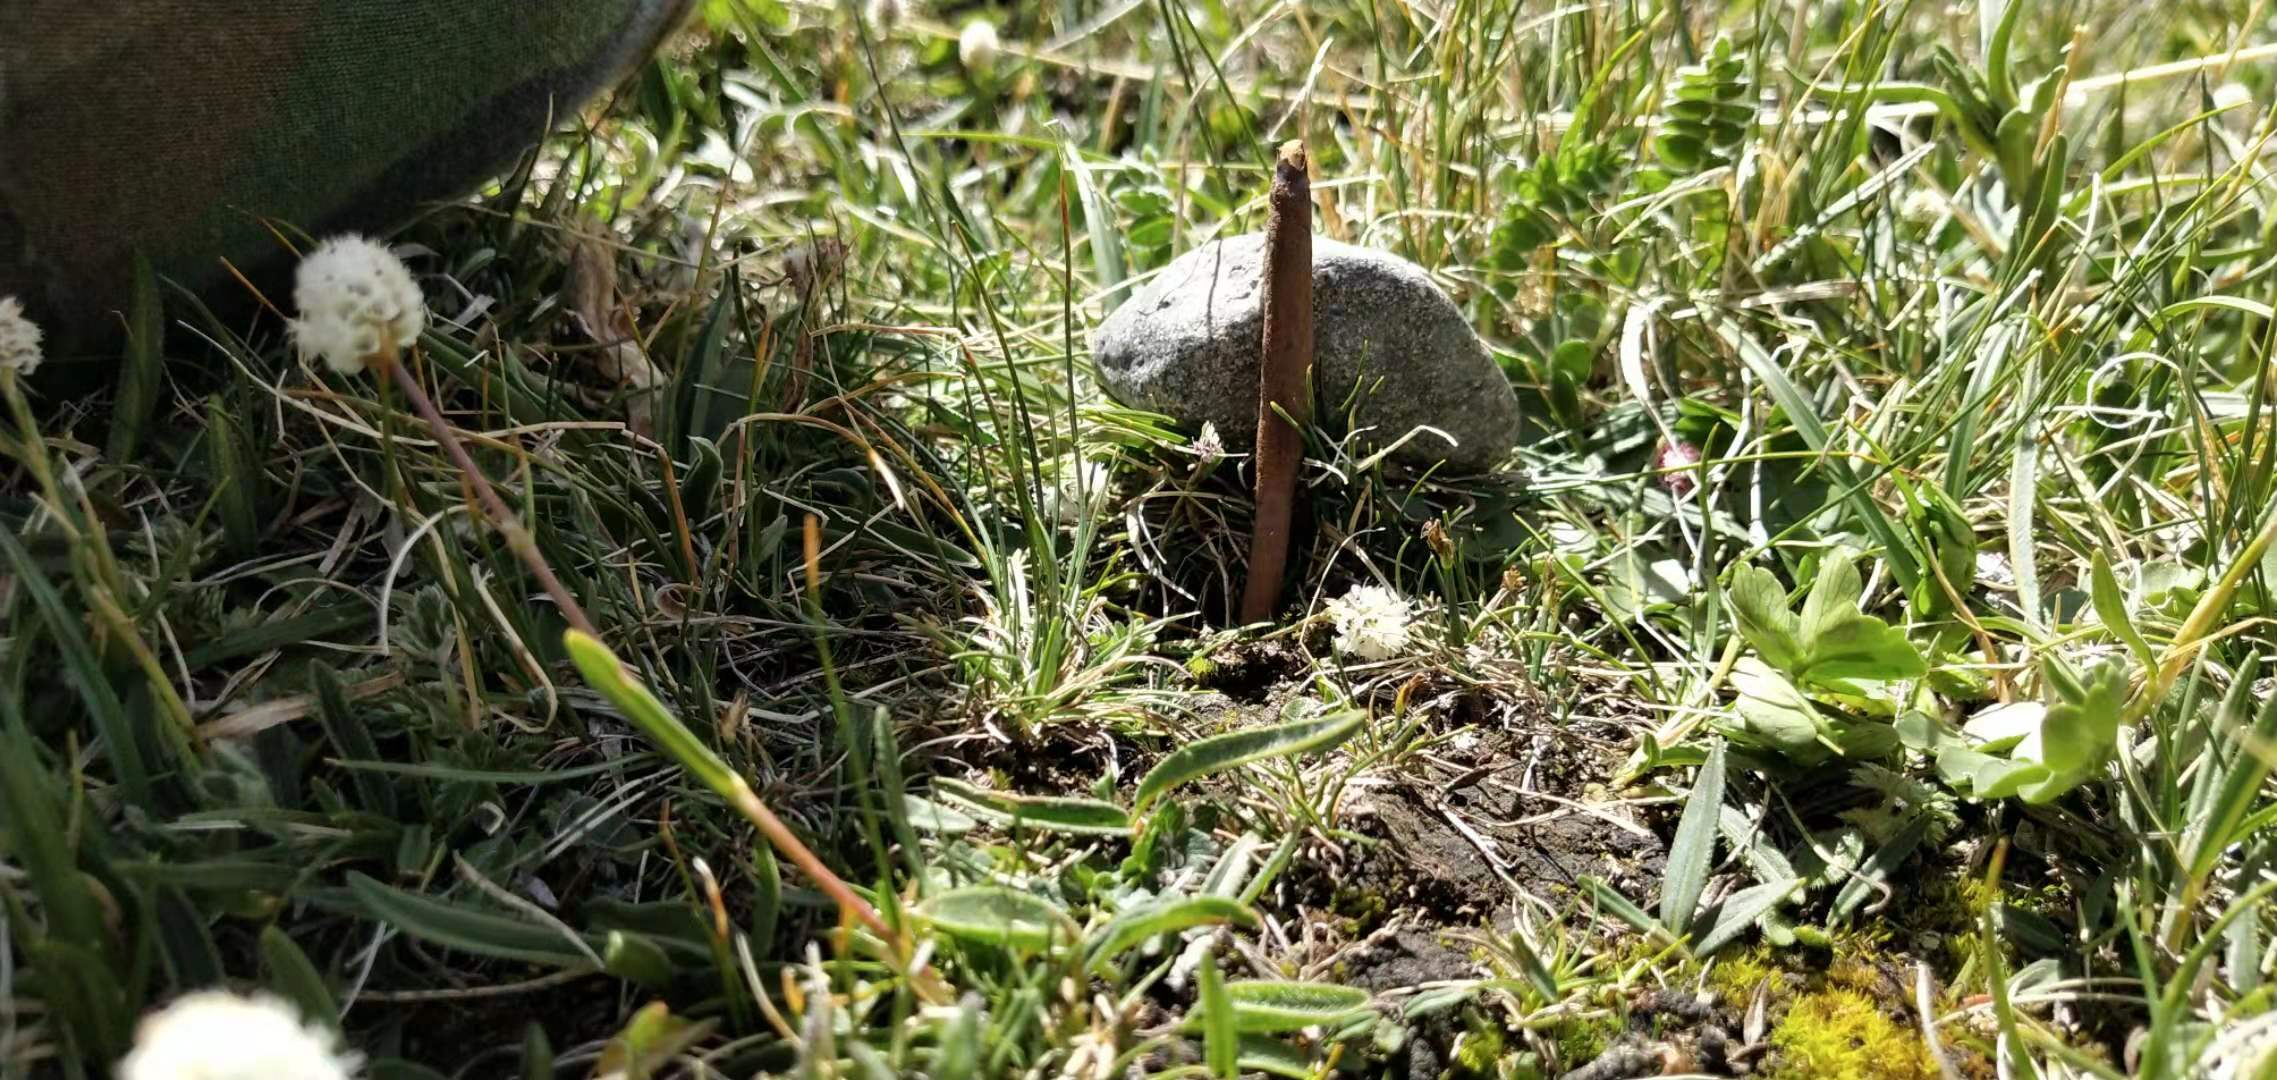cpf: (1236, 139, 1319, 621)
